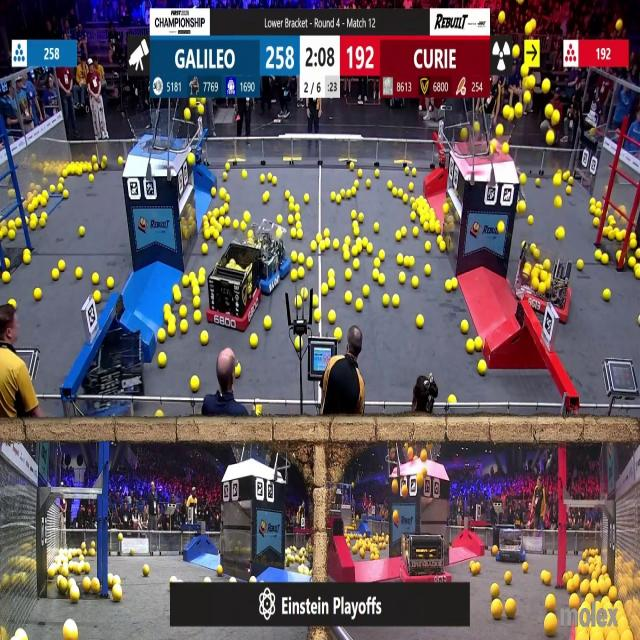ball_airborne: (526, 21, 536, 36), (545, 131, 554, 146), (540, 79, 549, 92), (502, 106, 510, 119), (526, 75, 534, 88), (544, 105, 552, 118), (490, 140, 498, 153), (553, 111, 560, 125), (391, 480, 398, 494), (516, 104, 524, 116), (514, 44, 522, 56), (460, 129, 468, 141), (524, 92, 531, 104), (522, 65, 529, 77), (187, 152, 194, 164), (421, 448, 428, 460), (496, 126, 503, 137), (498, 11, 505, 22), (184, 108, 190, 120), (502, 143, 508, 155), (473, 120, 479, 132), (408, 448, 414, 460), (417, 472, 424, 482), (199, 104, 205, 115), (618, 21, 624, 32), (189, 98, 195, 108), (392, 512, 398, 522), (401, 485, 406, 497), (201, 98, 207, 106)
ball_ground: (544, 616, 556, 637), (64, 622, 78, 640), (491, 600, 501, 619), (504, 600, 514, 618), (544, 594, 554, 612), (70, 588, 80, 604), (579, 580, 589, 596), (58, 576, 68, 590), (189, 377, 198, 392), (112, 587, 121, 602), (92, 580, 101, 594), (608, 588, 617, 602), (491, 585, 499, 600), (250, 335, 258, 349), (479, 360, 487, 374), (466, 340, 474, 354), (160, 353, 168, 367), (570, 595, 578, 609), (541, 570, 549, 584), (470, 562, 479, 574), (202, 333, 210, 346), (24, 250, 32, 263), (159, 328, 167, 341), (82, 577, 90, 590), (461, 320, 468, 334), (504, 570, 511, 584), (474, 338, 481, 352), (34, 288, 42, 300), (345, 291, 353, 303), (192, 312, 200, 324), (173, 290, 181, 302), (557, 228, 565, 240), (518, 202, 526, 214), (445, 280, 453, 292), (567, 582, 575, 594), (417, 315, 424, 328), (603, 288, 610, 301), (328, 311, 335, 324), (307, 256, 314, 269), (293, 338, 300, 351), (180, 320, 187, 333), (2, 273, 10, 284), (168, 324, 176, 335), (314, 310, 321, 322), (180, 306, 187, 318), (392, 294, 399, 306), (336, 328, 343, 340), (383, 294, 390, 306), (95, 290, 102, 302), (408, 256, 416, 266), (204, 231, 212, 241), (616, 231, 624, 241), (266, 316, 272, 329), (362, 286, 369, 297), (346, 270, 353, 281), (107, 278, 114, 289), (192, 296, 199, 307), (424, 266, 431, 277), (576, 261, 583, 272), (398, 274, 405, 285), (93, 274, 100, 285), (630, 238, 637, 249), (76, 268, 82, 280), (602, 252, 608, 264), (413, 276, 419, 288), (356, 300, 362, 312), (313, 294, 319, 306), (292, 270, 298, 282), (370, 271, 378, 280), (452, 278, 458, 290), (449, 394, 457, 403), (108, 574, 114, 586), (353, 220, 359, 232), (83, 562, 89, 574), (212, 231, 220, 240), (321, 284, 328, 294), (51, 270, 58, 280), (396, 254, 403, 264), (593, 217, 600, 227), (297, 253, 304, 263), (8, 231, 15, 241), (555, 176, 562, 186), (334, 240, 341, 250), (629, 256, 636, 266), (319, 241, 326, 251), (254, 408, 261, 418), (30, 220, 37, 230), (113, 574, 120, 584), (219, 206, 226, 216), (60, 262, 66, 273), (379, 274, 385, 285), (295, 296, 301, 307), (264, 191, 270, 202), (523, 562, 529, 573), (353, 261, 359, 272), (182, 276, 188, 287), (366, 244, 372, 255), (4, 257, 10, 268), (244, 212, 250, 223), (290, 230, 297, 239), (240, 221, 247, 230), (155, 411, 162, 420), (355, 238, 362, 247), (589, 206, 596, 215), (210, 216, 217, 225), (236, 366, 242, 376), (217, 565, 223, 575), (380, 250, 386, 260), (203, 244, 209, 254), (556, 198, 562, 208), (596, 250, 602, 260), (298, 269, 304, 279), (328, 279, 334, 289), (143, 565, 149, 575), (311, 242, 317, 252), (78, 226, 84, 236), (425, 242, 431, 252), (276, 230, 282, 240), (352, 246, 358, 256), (492, 544, 498, 554), (374, 222, 380, 232), (291, 252, 297, 262), (344, 251, 350, 261), (413, 228, 419, 238), (234, 219, 240, 229), (14, 218, 20, 228), (199, 276, 205, 286), (400, 226, 406, 236), (375, 257, 381, 267), (607, 231, 613, 241), (602, 226, 608, 236), (538, 180, 544, 190), (498, 222, 504, 232), (40, 199, 47, 207), (325, 238, 332, 246), (420, 214, 427, 222), (348, 164, 355, 172), (635, 268, 640, 279), (412, 212, 418, 221), (192, 286, 198, 295), (402, 193, 408, 202), (284, 190, 290, 199), (223, 217, 229, 226), (272, 176, 278, 185), (40, 218, 46, 227), (220, 188, 226, 197), (365, 179, 371, 188), (567, 176, 573, 185), (396, 232, 401, 242), (445, 204, 450, 214), (521, 174, 526, 184), (358, 213, 363, 223), (388, 180, 393, 190), (304, 288, 309, 298), (435, 222, 440, 232), (351, 211, 356, 221), (0, 230, 5, 240), (199, 270, 206, 277), (589, 200, 596, 207), (528, 216, 534, 224), (344, 237, 350, 245), (242, 171, 248, 179), (412, 168, 418, 176), (277, 215, 283, 223), (259, 175, 265, 183), (250, 575, 256, 583), (566, 186, 572, 194), (117, 158, 123, 166), (165, 304, 171, 312), (403, 168, 409, 176), (76, 168, 82, 176), (357, 170, 363, 178), (95, 165, 101, 173), (435, 236, 441, 244), (63, 170, 69, 178), (165, 314, 171, 322), (40, 212, 46, 220), (247, 232, 253, 240), (91, 550, 97, 558), (8, 220, 14, 228), (216, 223, 222, 231), (64, 189, 69, 198), (305, 193, 310, 202), (328, 270, 333, 279), (441, 243, 446, 252), (424, 222, 429, 231), (212, 187, 217, 196), (392, 187, 397, 196), (299, 288, 304, 297), (316, 235, 322, 242), (218, 217, 224, 224), (294, 214, 300, 221), (293, 205, 299, 212), (288, 205, 294, 212), (217, 239, 222, 247), (324, 230, 329, 238), (288, 215, 293, 223), (376, 170, 381, 178), (330, 191, 335, 199), (171, 575, 176, 583), (59, 183, 64, 191), (49, 184, 54, 192), (347, 189, 352, 197), (120, 536, 125, 544), (224, 192, 229, 200), (362, 239, 367, 247), (337, 194, 342, 202), (268, 174, 273, 182), (596, 202, 601, 210), (370, 554, 375, 562), (231, 576, 237, 582), (90, 175, 95, 182), (205, 576, 210, 583), (224, 165, 229, 172), (222, 173, 227, 180), (103, 155, 108, 162), (93, 155, 98, 162), (410, 183, 414, 191), (536, 178, 540, 186), (12, 302, 16, 310), (352, 187, 356, 195), (636, 249, 640, 257), (208, 210, 212, 218), (618, 251, 622, 259), (295, 222, 300, 228), (60, 177, 65, 183), (354, 180, 358, 187), (99, 161, 103, 167)
goal: (129, 115, 186, 151), (461, 128, 512, 160)
robot_blue: (74, 327, 150, 415), (250, 224, 292, 294), (494, 521, 526, 562)
robot_red: (513, 243, 572, 320), (208, 244, 260, 330), (404, 533, 449, 585)
